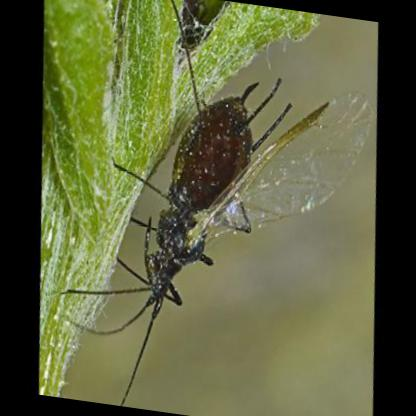uroleucon compositae: (145, 80, 376, 319)
